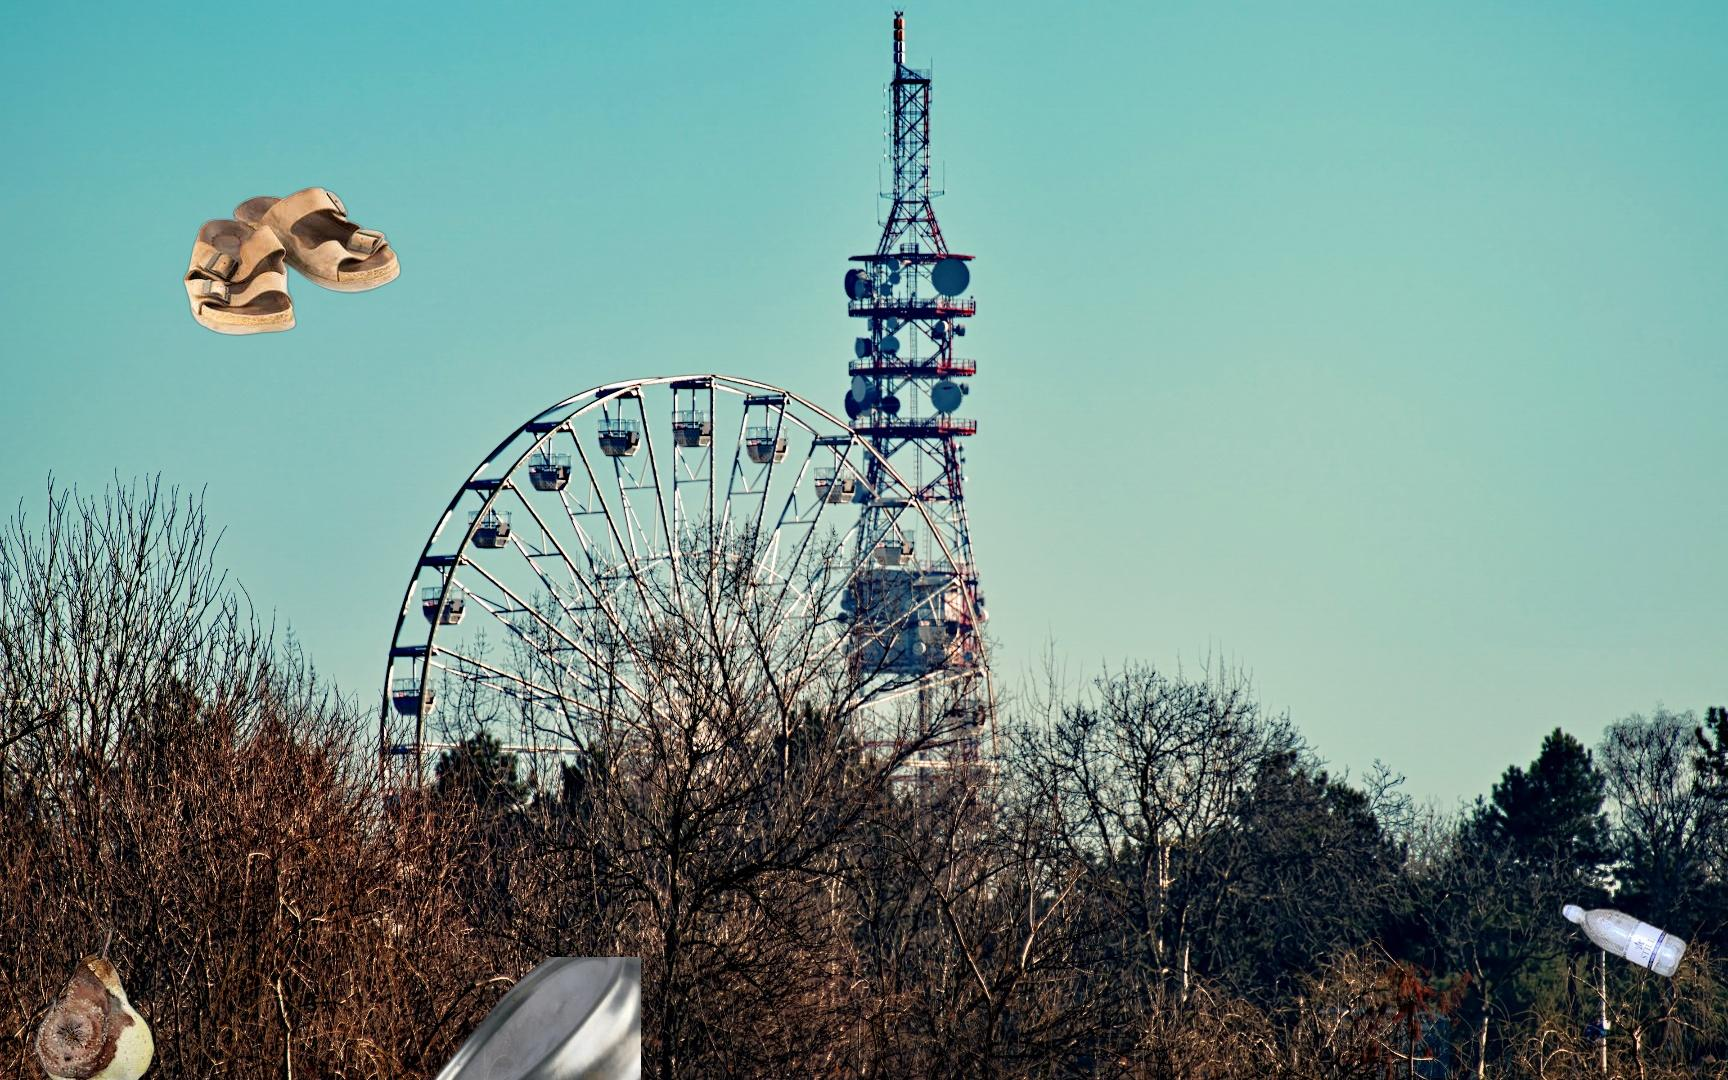biological: (214, 979, 647, 1080), (29, 924, 157, 1080)
metal-cans: (383, 957, 641, 1080)
plastic-bottles: (1558, 898, 1691, 984)
shoes: (180, 184, 403, 338)
